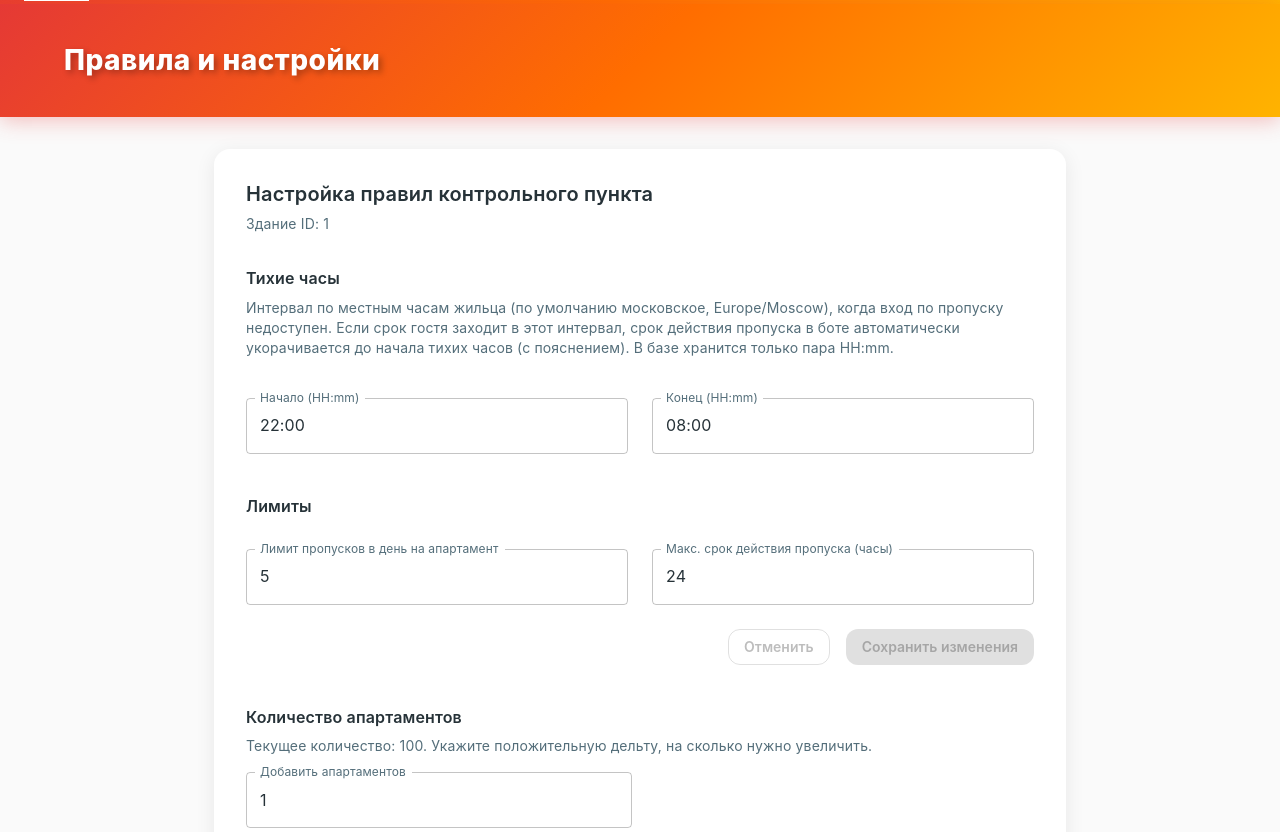
Test: AdminRulesPage › updates apartment count and shows success
Expected: the field showing "22:00" is shown, x1=246 y1=398 x2=628 y2=454
Expected: the text "Текущее количество: 100" is shown, x1=246 y1=738 x2=872 y2=754
Step 1. Replace the text in the number field labelled "Добавить апартаментов" with "20" → (439, 800), box x1=246 y1=772 x2=632 y2=828
(page scrolled)
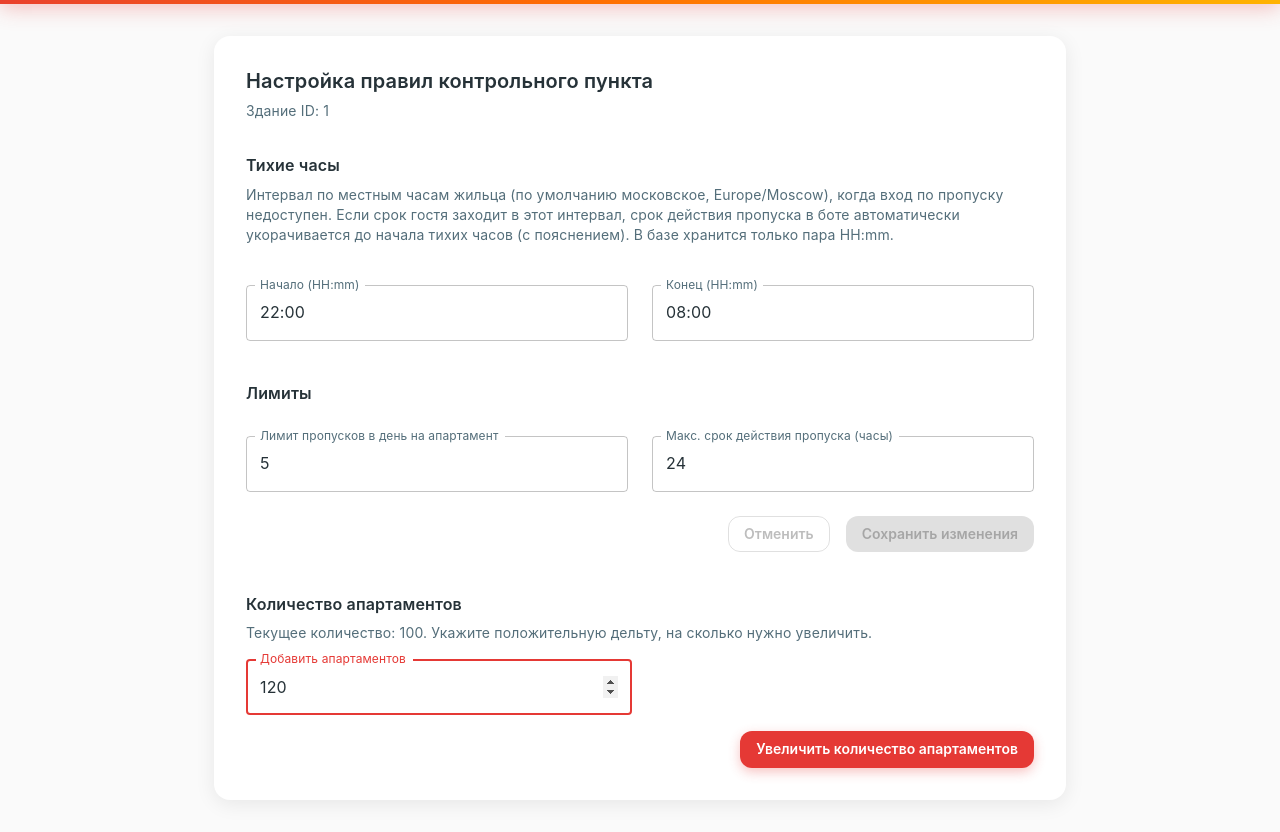
Step 2. Click the button "Увеличить количество апартаментов" → (887, 750), box x1=740 y1=732 x2=1034 y2=768
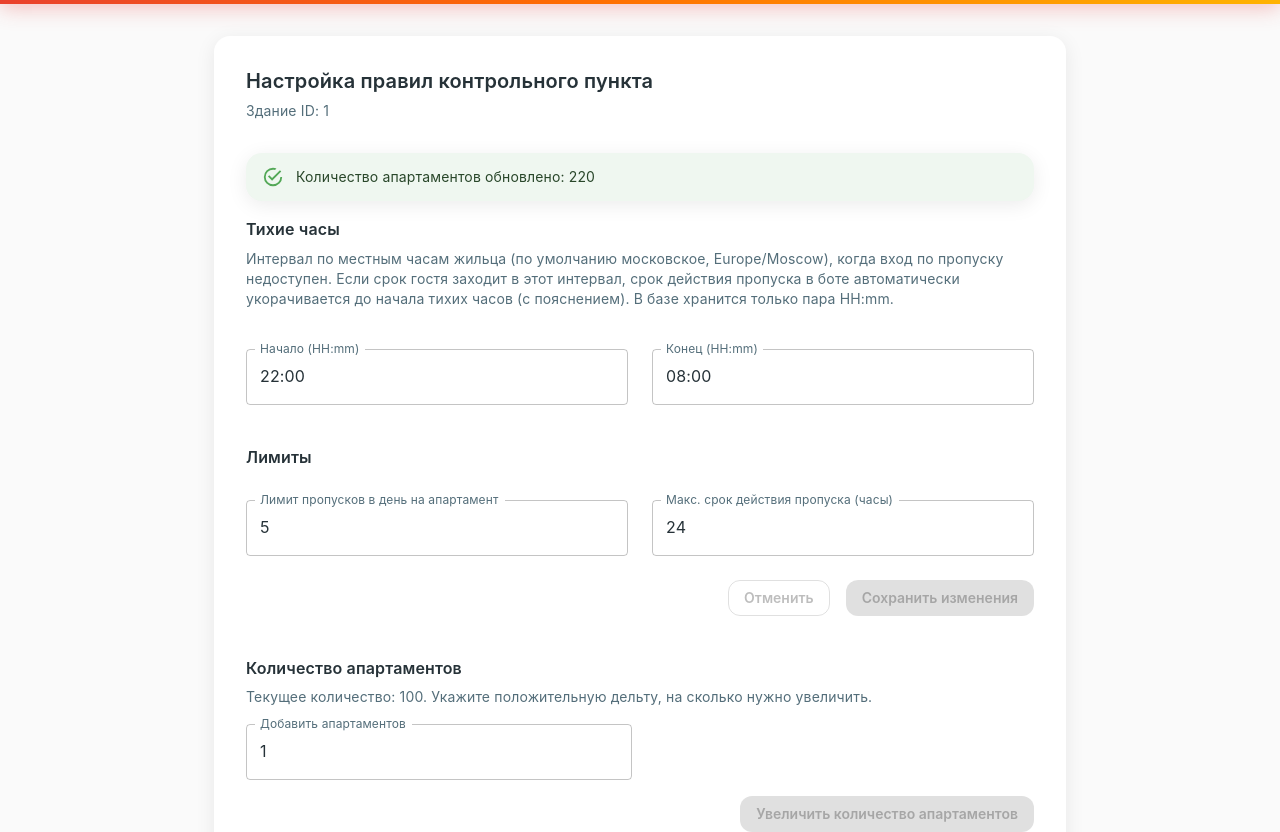
Now the text "Количество апартаментов обновлено: 220" is shown, box x1=296 y1=168 x2=595 y2=185
